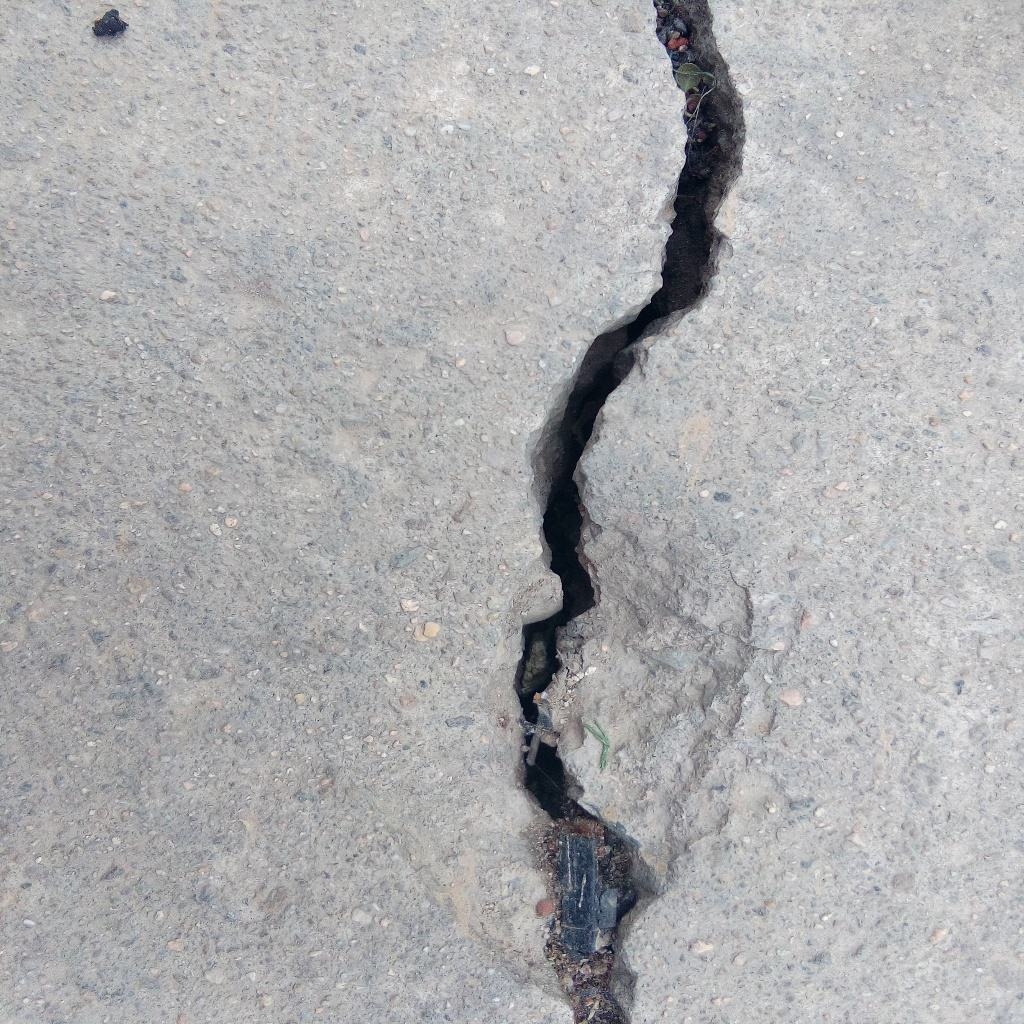Crack: (512, 1, 748, 1024)
